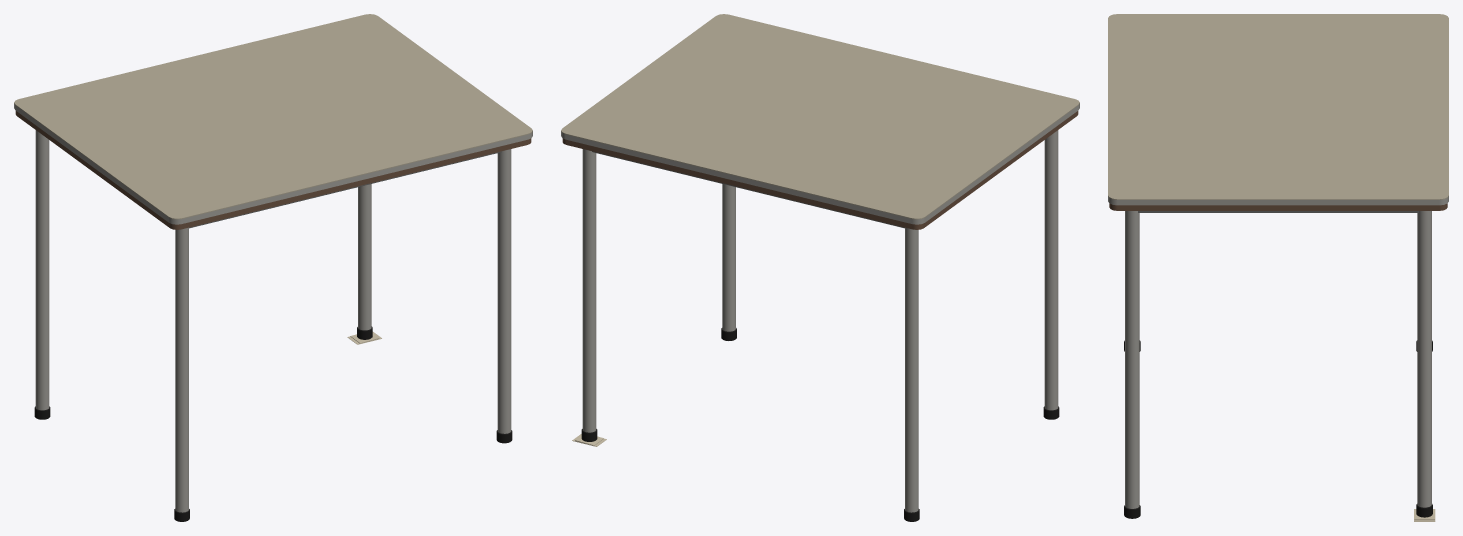
The model's file is kitchen-table-5a8e7d45e559.glb.
The picture shows the model from 3 angles, left to right: view 1: azimuth 30°, elevation 25°; view 2: azimuth 150°, elevation 25°; view 3: azimuth 270°, elevation 25°; orthographic projection. The views are drawn at different scales.
Parts seen in each view (by area): view 1: plastic-light, brushed, wood, rubber-foot; view 2: plastic-light, brushed, wood, rubber-foot; view 3: plastic-light, brushed, wood, metal, rubber-foot.
Boxes of the visible parts, <box> form: plastic-light: <box>14,14,532,219</box>; brushed: <box>14,103,532,512</box>; wood: <box>15,111,531,229</box>; rubber-foot: <box>34,326,512,521</box>; plastic-light: <box>561,14,1079,219</box>; brushed: <box>561,103,1079,512</box>; wood: <box>562,111,1078,229</box>; rubber-foot: <box>581,328,1059,521</box>; plastic-light: <box>1108,14,1448,199</box>; brushed: <box>1108,196,1448,508</box>; wood: <box>1109,203,1447,210</box>; metal: <box>1138,211,1418,212</box>; rubber-foot: <box>1124,340,1432,518</box>.
Size of the model in its own units: 0.9 by 0.74 by 0.7.
